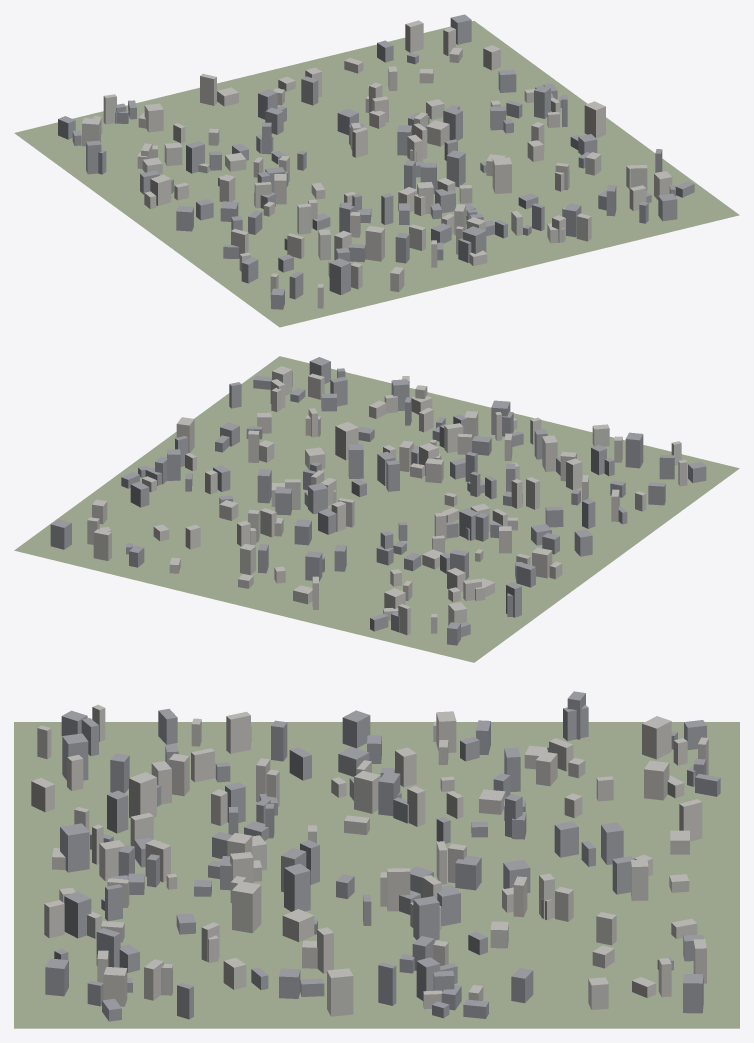
Rendered from level.glb.
3 views of the same model, one above another, from view 1: azimuth 30°, elevation 25°; view 2: azimuth 150°, elevation 25°; view 3: azimuth 270°, elevation 25° (orthographic). The views are drawn at different scales.
Visible parts, largest first — view 1: VIS_Ground, VIS_Block013, VIS_Block134, VIS_Block086, VIS_Block020, VIS_Block175, VIS_Block164, VIS_Block166, VIS_Block003, VIS_Block129, VIS_Block046, VIS_Block174 (+1 smaller); view 2: VIS_Ground, VIS_Block086, VIS_Block013, VIS_Block149, VIS_Block164, VIS_Block175, VIS_Block055, VIS_Block020, VIS_Block166; view 3: VIS_Ground, VIS_Block086, VIS_Block001, VIS_Block134, VIS_Block175, VIS_Block020, VIS_Block114, VIS_Block003, VIS_Block183, VIS_Block168, VIS_Block010, VIS_Block174 (+57 smaller).
Part boxes in pixels (x1,y1,x2,y2): VIS_Ground: (14,21,739,327); VIS_Block013: (329,258,350,294); VIS_Block134: (584,101,605,138); VIS_Block086: (492,157,511,193); VIS_Block020: (365,226,384,261); VIS_Block175: (446,150,465,187); VIS_Block164: (405,20,423,52); VIS_Block166: (150,174,171,206); VIS_Block003: (443,106,462,140); VIS_Block129: (186,141,204,173); VIS_Block046: (426,120,449,146); VIS_Block174: (144,103,163,132); VIS_Ground: (14,356,739,662); VIS_Block086: (335,422,358,460); VIS_Block013: (625,432,643,468); VIS_Block149: (50,519,71,549); VIS_Block164: (93,529,111,560); VIS_Block175: (348,444,363,478); VIS_Block055: (308,483,327,514); VIS_Block020: (542,435,557,471); VIS_Block166: (532,547,552,578); VIS_Ground: (14,722,739,1028); VIS_Block086: (232,881,261,933); VIS_Block001: (60,823,89,872); VIS_Block134: (327,968,353,1016); VIS_Block175: (284,863,310,911); VIS_Block020: (129,772,156,817); VIS_Block114: (642,716,671,759); VIS_Block003: (413,896,439,940); VIS_Block183: (64,891,91,938); VIS_Block168: (354,771,380,813); VIS_Block010: (226,711,250,753); VIS_Block174: (644,760,669,800).
Bounding box in the file's own units: 150 × 8.98 × 150.
